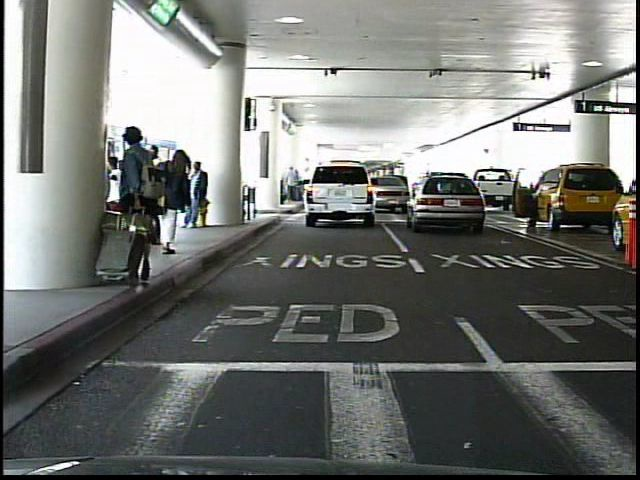person: (115, 123, 166, 287), (155, 148, 195, 261), (146, 145, 174, 239), (180, 158, 209, 234)
